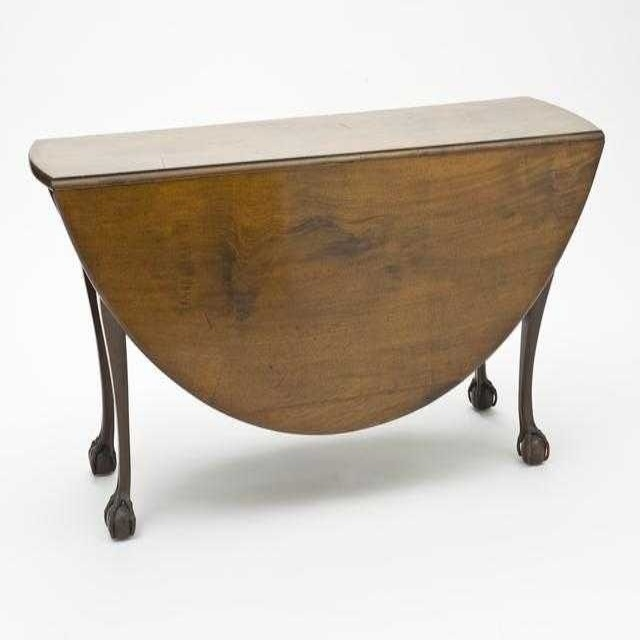obstacle: (29, 98, 603, 538)
